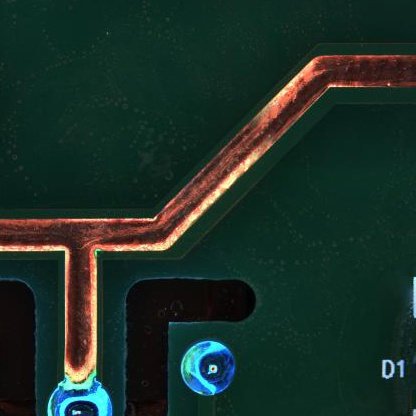spot: (178, 340, 237, 396)
